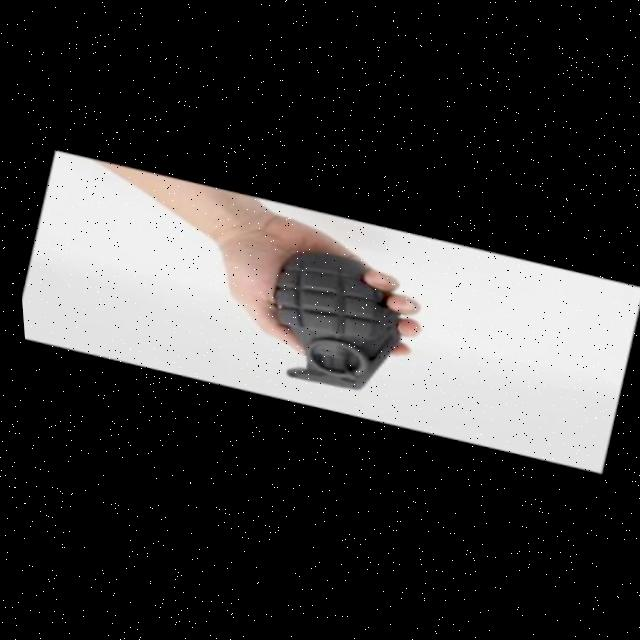grenade: (232, 222, 435, 422)
